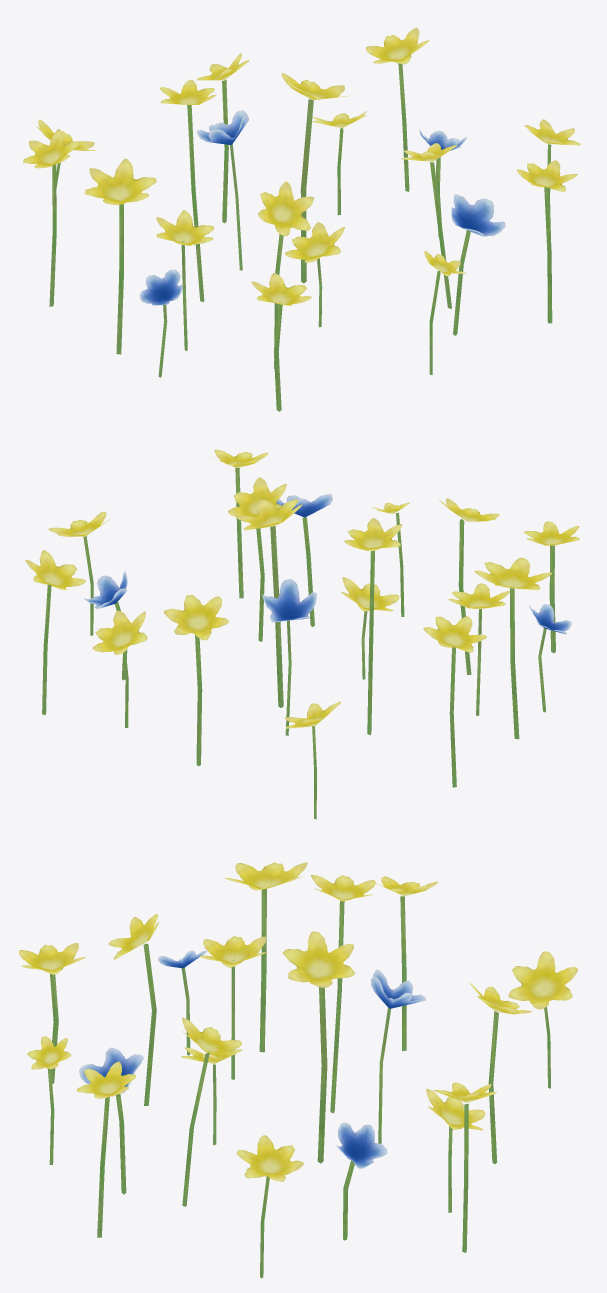
File: P_DaffodilsYellow.obj
3 renders of one model, top to bottom at view 1: azimuth 30°, elevation 25°; view 2: azimuth 150°, elevation 25°; view 3: azimuth 270°, elevation 25°, orthographic. The views are drawn at different scales.
Size of the model in its own units: 1.7 by 0.6891 by 1.54.
